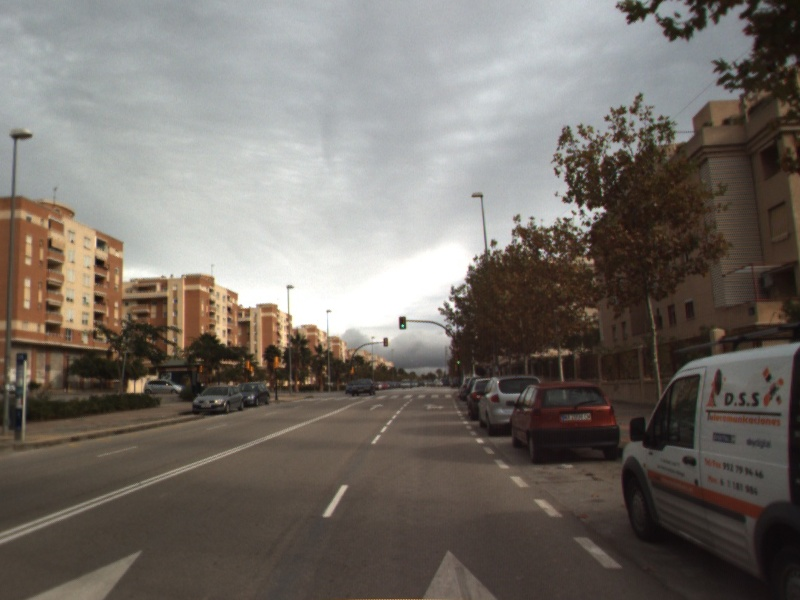STRAIGHT: (367, 402, 385, 412)
STRAIGHT_RIGHT: (421, 402, 447, 412)
